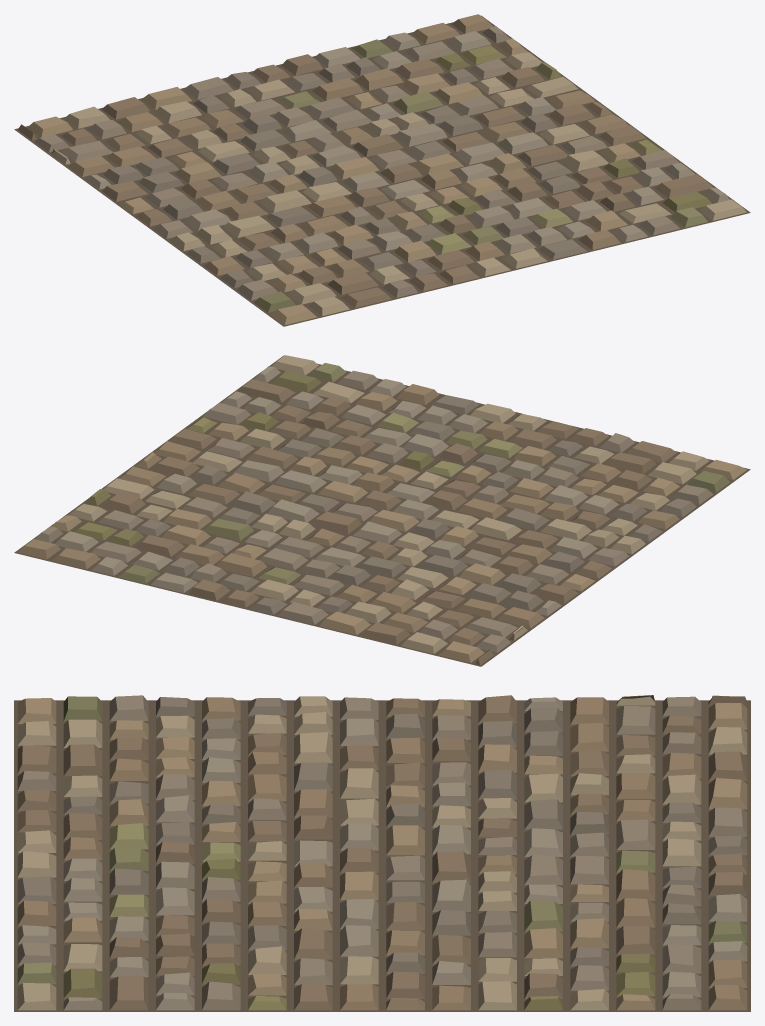
Rendered from town_cobble_patch.glb.
The picture shows the model from 3 angles, top to bottom: view 1: azimuth 30°, elevation 25°; view 2: azimuth 150°, elevation 25°; view 3: azimuth 270°, elevation 25°; orthographic projection. The views are drawn at different scales.
Parts seen in each view (by area): view 1: town_cobble_patch; view 2: town_cobble_patch; view 3: town_cobble_patch.
Boxes of the visible parts, x1,y1,x2,y2 form: town_cobble_patch: (14,14,750,326); town_cobble_patch: (14,355,750,666); town_cobble_patch: (14,695,750,1011).
Bounding box in the file's own units: 8 × 0.1181 × 8.
